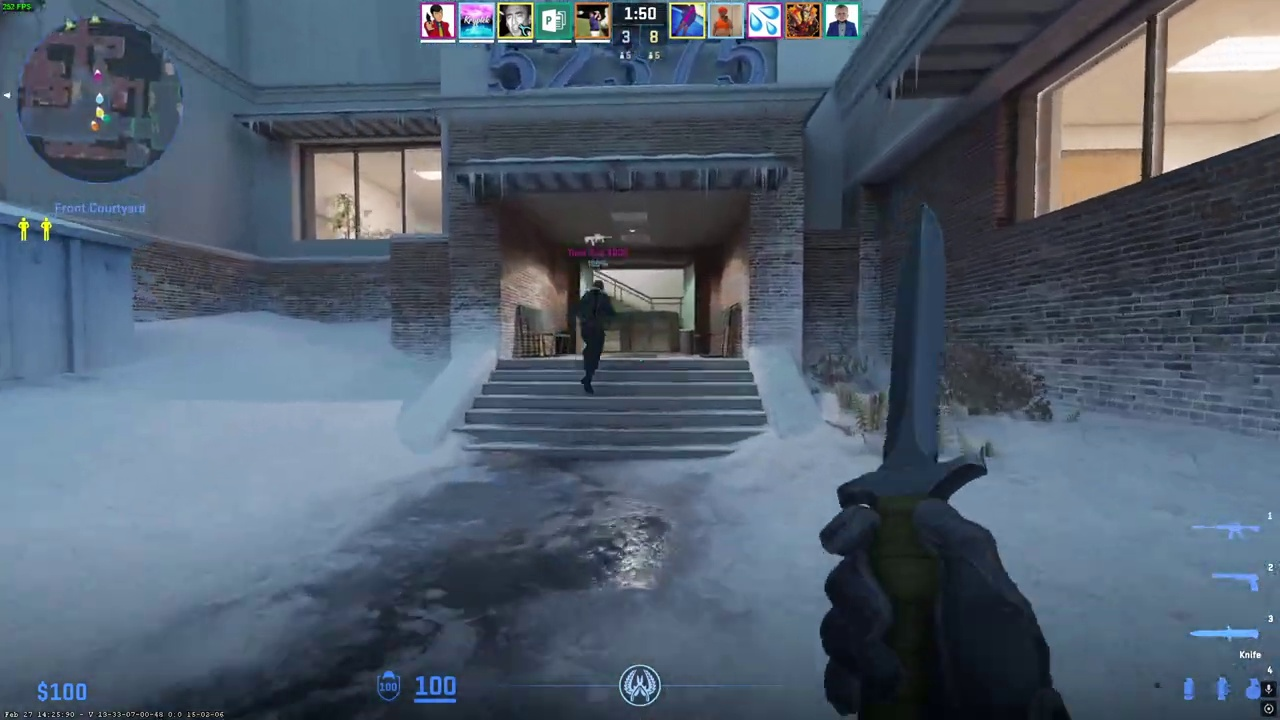CT: (577, 280, 613, 393)
